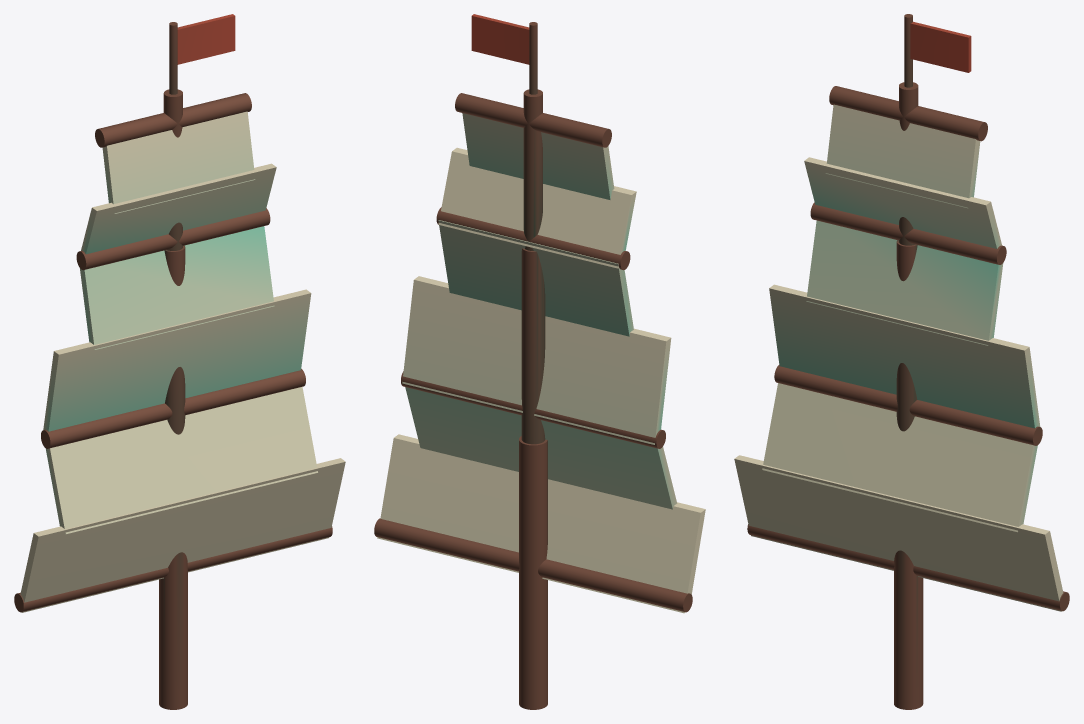
3 renders of one model, left to right at view 1: azimuth 30°, elevation 25°; view 2: azimuth 150°, elevation 25°; view 3: azimuth 330°, elevation 25°, orthographic.
Parts seen in each view (by area): view 1: lower_canvas, bottom_canvas, middle_canvas, upper_canvas, top_canvas, shoulder_canvas, middle_spar, lower_mast, upper_spar, bottom_spar, top_spar, flag (+3 smaller); view 2: bottom_canvas, middle_canvas, lower_canvas, upper_canvas, shoulder_canvas, lower_mast, top_canvas, bottom_spar, middle_mast, top_spar, upper_mast, middle_spar (+3 smaller); view 3: lower_canvas, bottom_canvas, middle_canvas, upper_canvas, top_canvas, shoulder_canvas, middle_spar, lower_mast, upper_spar, bottom_spar, top_spar, flag (+3 smaller).
Boxes of the visible parts, x1=… form: lower_canvas: x1=45, y1=386, x2=317, y2=534; bottom_canvas: x1=20, y1=458, x2=345, y2=612; middle_canvas: x1=43, y1=289, x2=311, y2=431; upper_canvas: x1=80, y1=226, x2=274, y2=349; top_canvas: x1=102, y1=111, x2=255, y2=213; shoulder_canvas: x1=81, y1=163, x2=276, y2=254; middle_spar: x1=41, y1=369, x2=305, y2=448; lower_mast: x1=159, y1=552, x2=187, y2=709; upper_spar: x1=76, y1=208, x2=270, y2=270; bottom_spar: x1=14, y1=526, x2=332, y2=612; top_spar: x1=95, y1=93, x2=251, y2=147; flag: x1=177, y1=14, x2=235, y2=64; bottom_canvas: x1=377, y1=434, x2=705, y2=613; middle_canvas: x1=402, y1=276, x2=671, y2=444; lower_canvas: x1=405, y1=387, x2=677, y2=509; upper_canvas: x1=438, y1=220, x2=633, y2=336; shoulder_canvas: x1=438, y1=147, x2=636, y2=268; lower_mast: x1=519, y1=436, x2=547, y2=709; top_canvas: x1=462, y1=113, x2=614, y2=199; bottom_spar: x1=374, y1=518, x2=692, y2=612; middle_mast: x1=521, y1=248, x2=545, y2=444; top_spar: x1=455, y1=93, x2=611, y2=147; upper_mast: x1=523, y1=89, x2=542, y2=250; middle_spar: x1=401, y1=371, x2=665, y2=448; lower_canvas: x1=762, y1=383, x2=1037, y2=532; bottom_canvas: x1=734, y1=455, x2=1063, y2=611; middle_canvas: x1=769, y1=284, x2=1040, y2=428; upper_canvas: x1=806, y1=220, x2=1003, y2=345; top_canvas: x1=825, y1=104, x2=980, y2=208; shoulder_canvas: x1=804, y1=157, x2=1002, y2=248; middle_spar: x1=774, y1=365, x2=1042, y2=445; lower_mast: x1=894, y1=550, x2=923, y2=709; upper_spar: x1=810, y1=202, x2=1006, y2=264; bottom_spar: x1=747, y1=524, x2=1069, y2=611; top_spar: x1=829, y1=86, x2=987, y2=141; flag: x1=910, y1=21, x2=971, y2=72.
Size of the model in its own units: 14.26 by 30 by 2.08.
